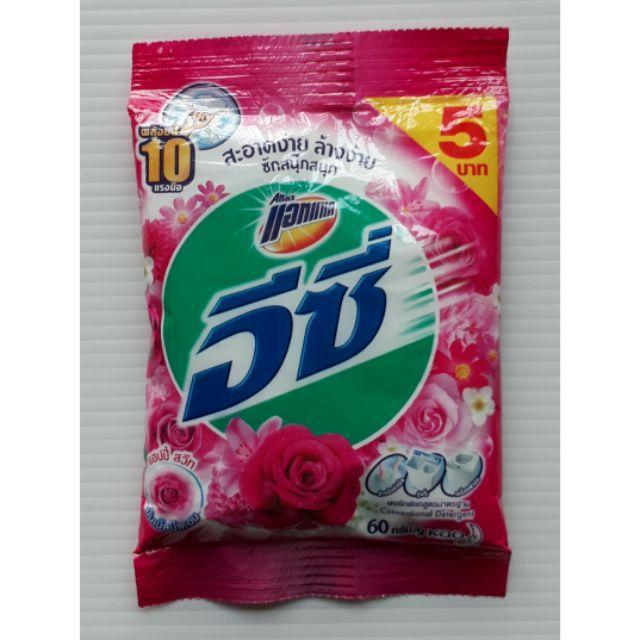Bolsa-de-plastico: (128, 28, 510, 606)
